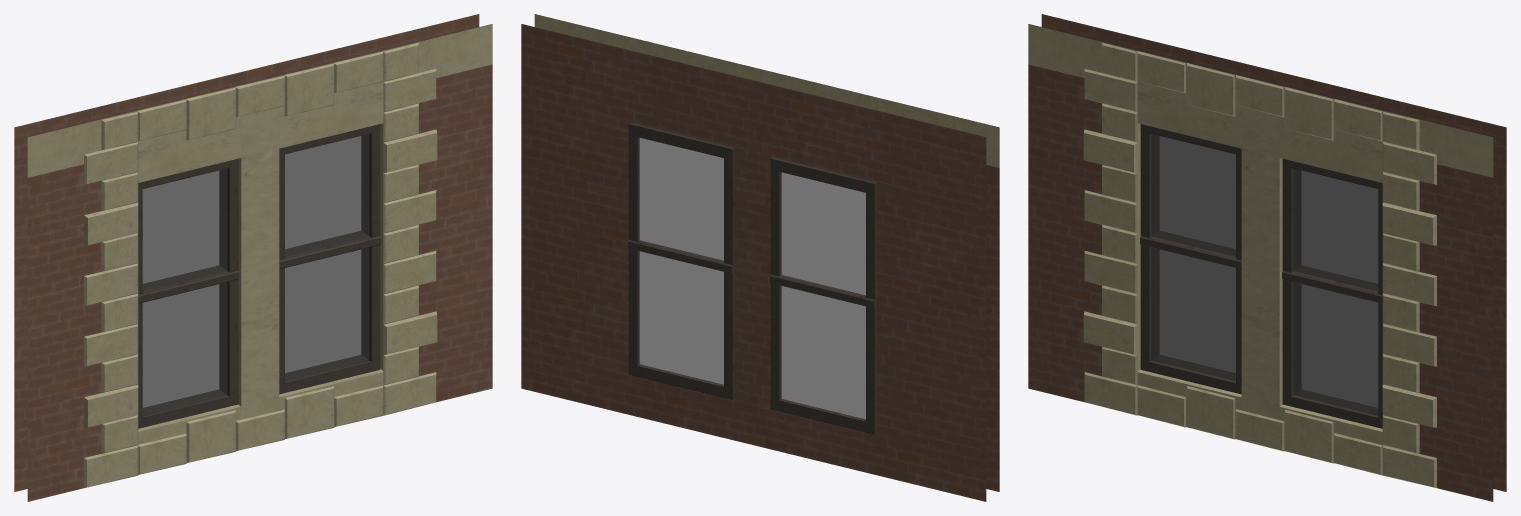
The model's file is brick_redwhite_doublewindow.glb.
3 renders of one model, left to right at view 1: azimuth 30°, elevation 25°; view 2: azimuth 150°, elevation 25°; view 3: azimuth 330°, elevation 25°, orthographic.
Parts seen in each view (by area): view 1: Brick_RedWhite_DoubleWindow; view 2: Brick_RedWhite_DoubleWindow; view 3: Brick_RedWhite_DoubleWindow.
Boxes of the visible parts, x1=… form: Brick_RedWhite_DoubleWindow: x1=14, y1=14, x2=492, y2=501; Brick_RedWhite_DoubleWindow: x1=521, y1=14, x2=999, y2=501; Brick_RedWhite_DoubleWindow: x1=1028, y1=14, x2=1506, y2=501.
Bounding box in the file's own units: 4 × 3 × 0.2773.
Materials: 6 (4 with a texture image).
